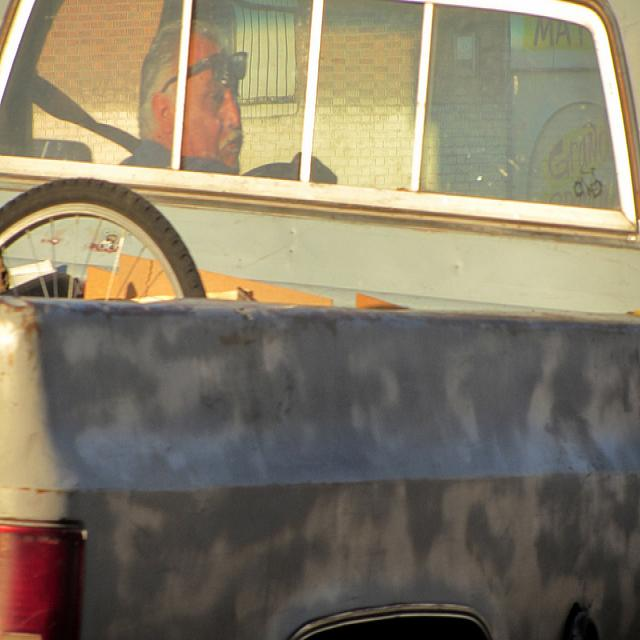Vehicle: (0, 287, 640, 634), (2, 4, 638, 324)
